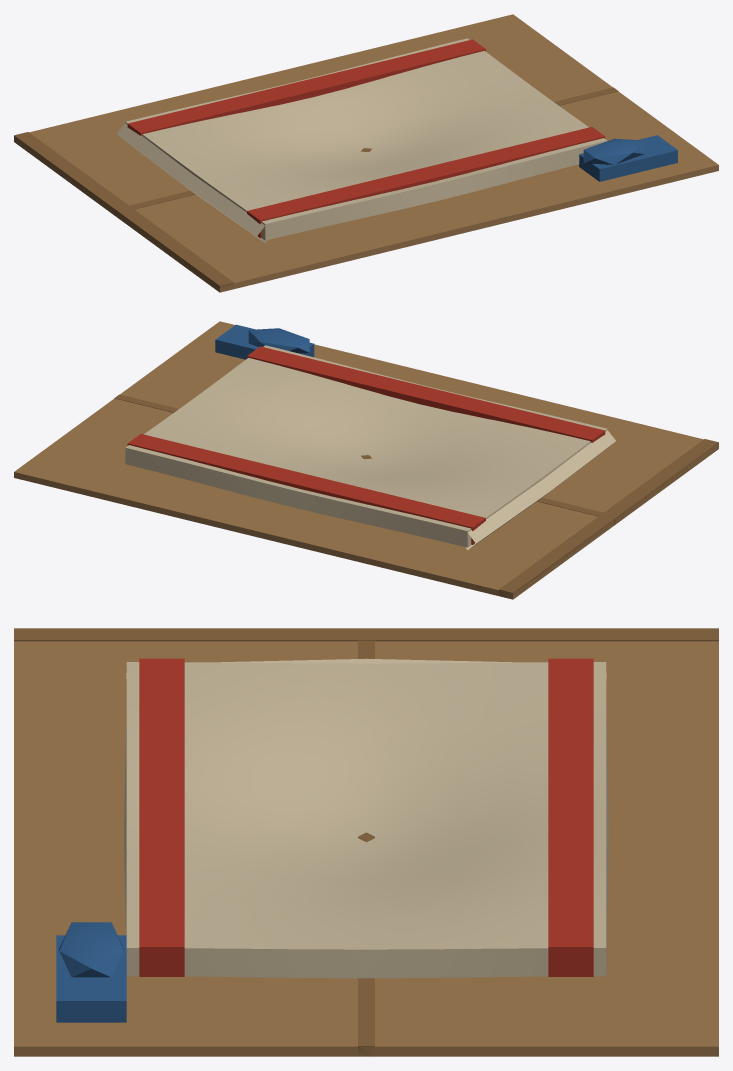
Rendered from cho_ngu_trua.glb.
3 views of the same model, one above another, from view 1: azimuth 30°, elevation 25°; view 2: azimuth 150°, elevation 25°; view 3: azimuth 270°, elevation 25° (orthographic). The views are drawn at different scales.
Parts seen in each view (by area): view 1: cho_ngu_trua; view 2: cho_ngu_trua; view 3: cho_ngu_trua.
Part boxes in pixels (x1,y1,x2,y2): cho_ngu_trua: [14, 14, 718, 292]; cho_ngu_trua: [14, 321, 718, 599]; cho_ngu_trua: [14, 628, 718, 1056].
Bounding box in the file's own units: 0.7 × 0.056 × 0.5.
